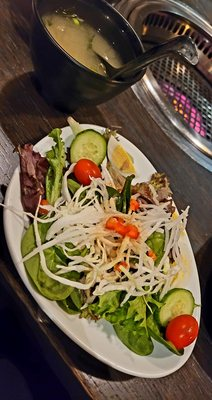salad: (103, 36, 205, 83)
sushi: (4, 117, 208, 384)
